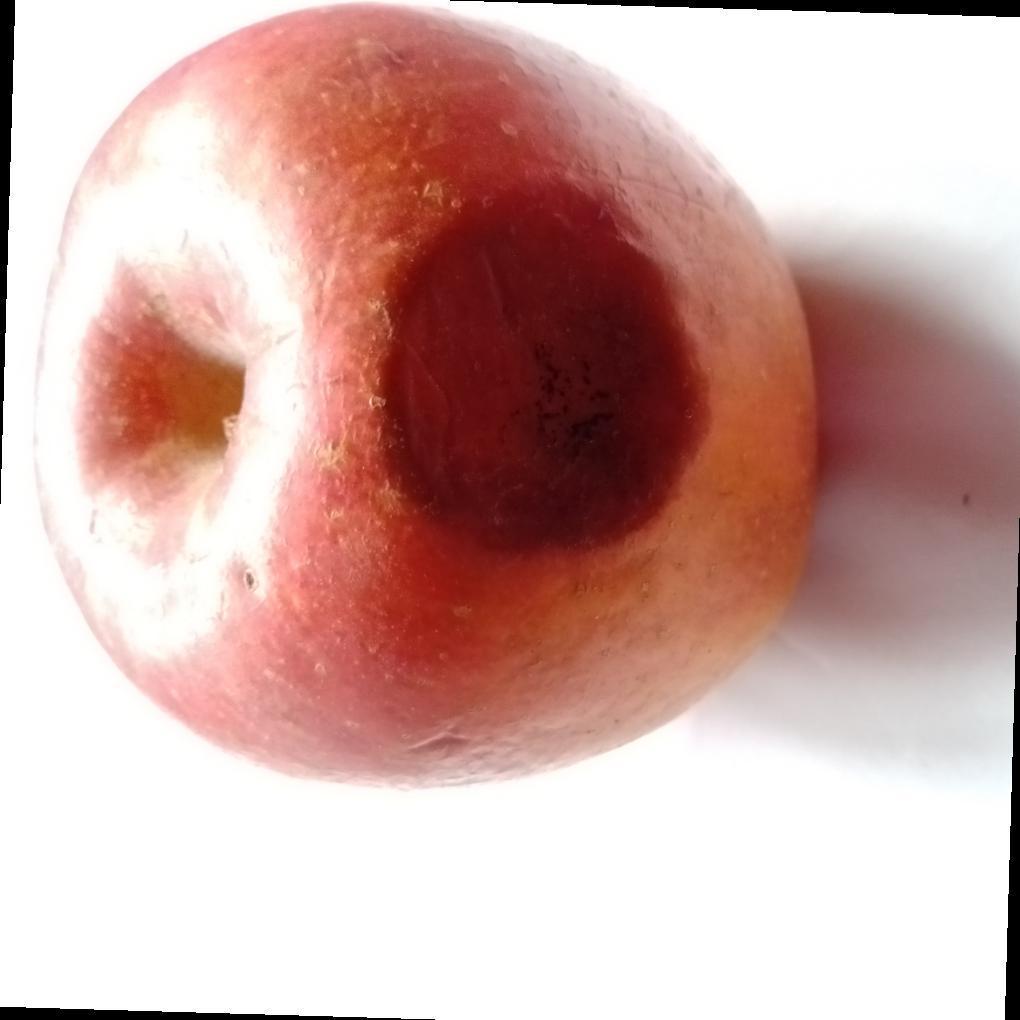FreshOrange: (10, 2, 822, 792)
